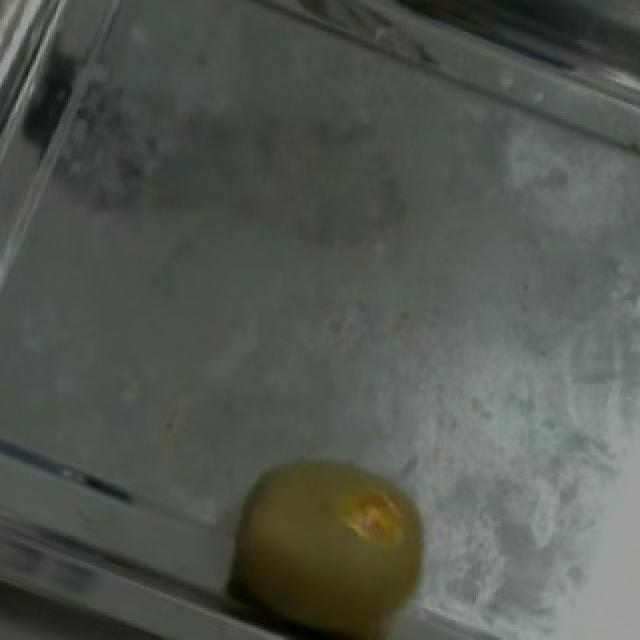Fruit: (192, 419, 462, 640)
